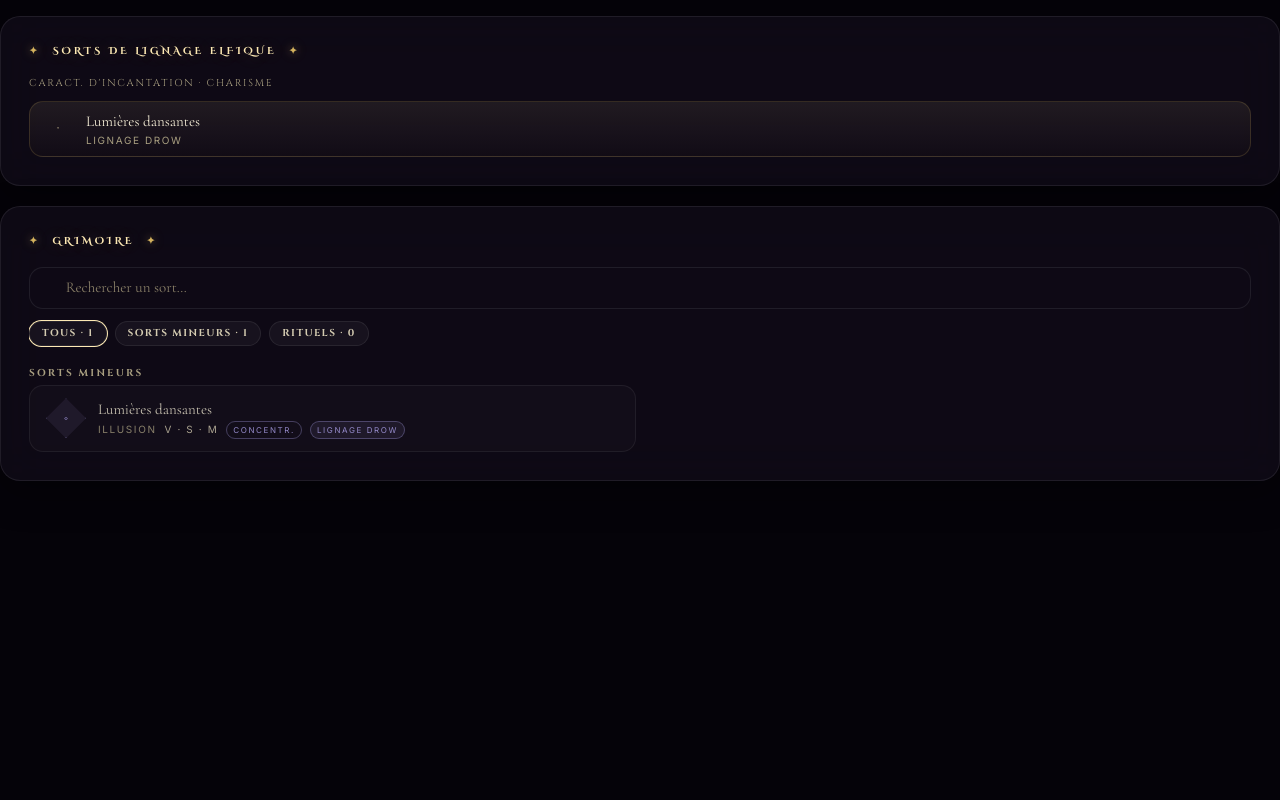
Test: <MagieMode> — sort d'ascendance ouvre la modale détail (non-caster) › Elfe Drow Roublard L1 → clic sur Lumières dansantes ouvre la modale + cantrip lançable
Step 1. Click the button "· Lumières dansantes Lignage Drow" → (143, 121), box [29,101,1251,157]
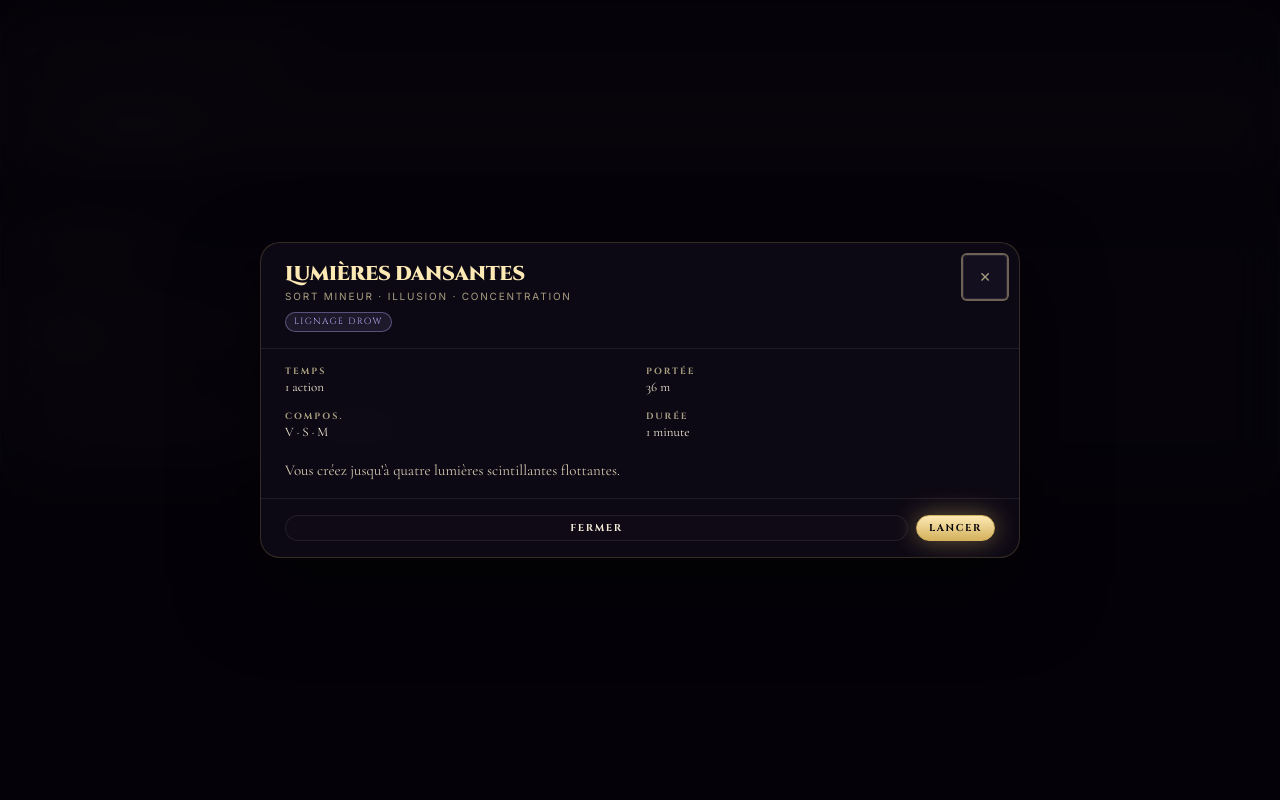
Now the heading "Lumières dansantes" is shown, box [285,260,525,287]
Now the text "Vous créez jusqu’à quatre lumières scintillantes flottantes." is shown, box [285,461,620,479]
Now the button "Lancer" is enabled, box [916,515,995,541]
